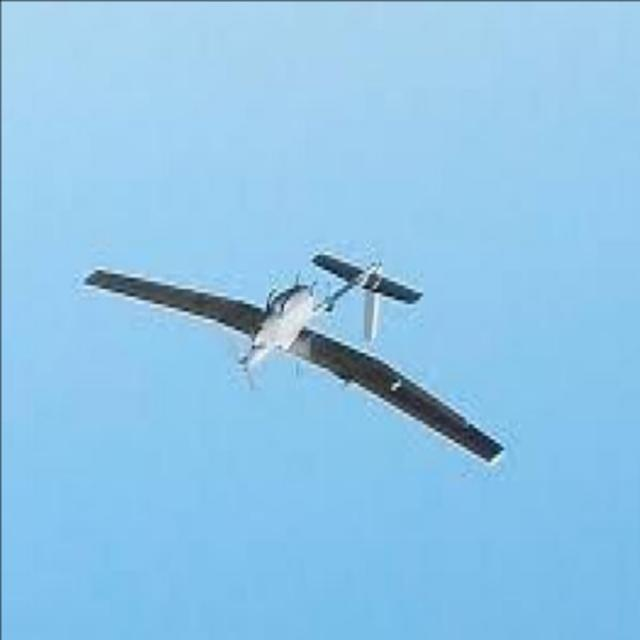plane: (80, 249, 505, 468)
